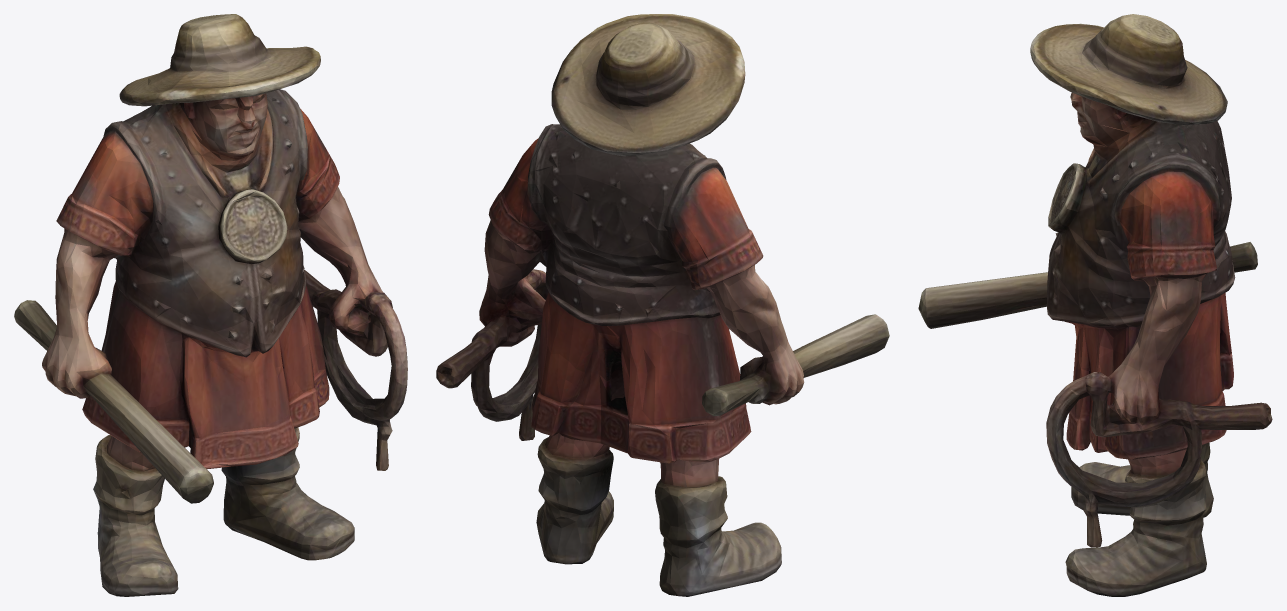
The model's file is marketOverseer.glb.
3 renders of one model, left to right at view 1: azimuth 30°, elevation 25°; view 2: azimuth 150°, elevation 25°; view 3: azimuth 270°, elevation 25°, orthographic. The views are drawn at different scales.
Visible parts, largest first — view 1: world; view 2: world; view 3: world.
Boxes of the visible parts, x1=… form: world: x1=14, y1=14, x2=407, y2=596; world: x1=436, y1=14, x2=889, y2=596; world: x1=918, y1=14, x2=1272, y2=596.
Size of the model in its own units: 0.6139 by 0.9616 by 0.5862.
1 material, 1 textured.
